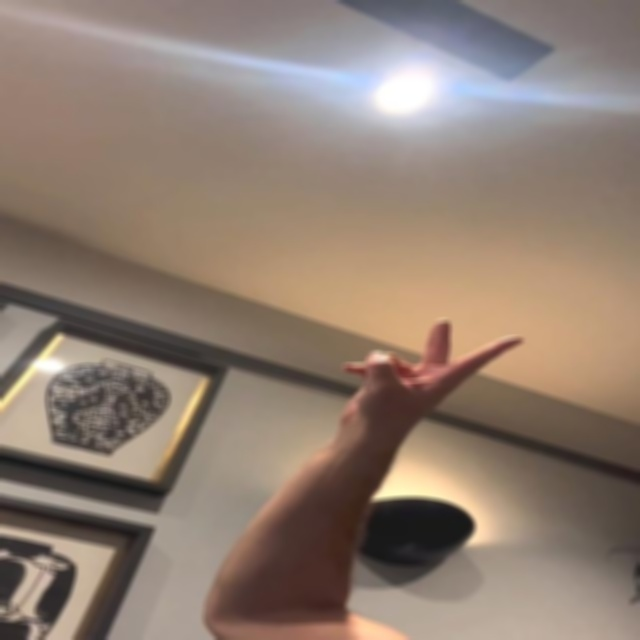Scissors: (345, 319, 529, 427)
